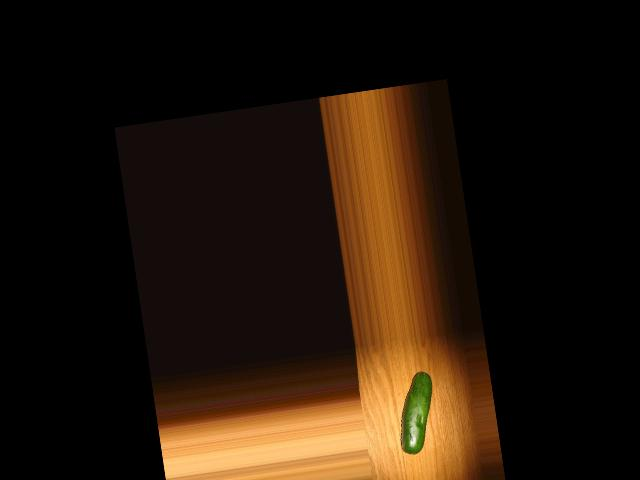cucumber: (391, 370, 440, 454)
